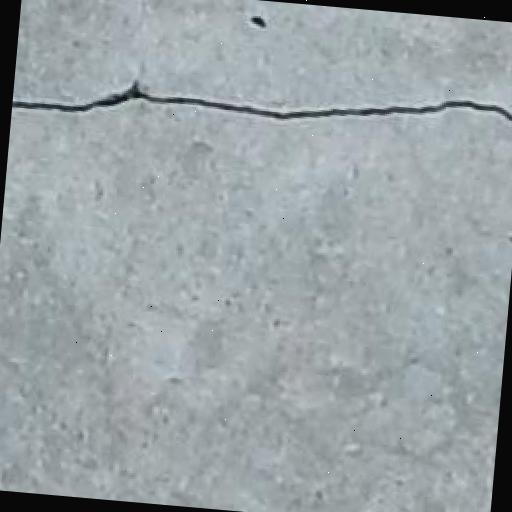spalling: (22, 63, 512, 147)
